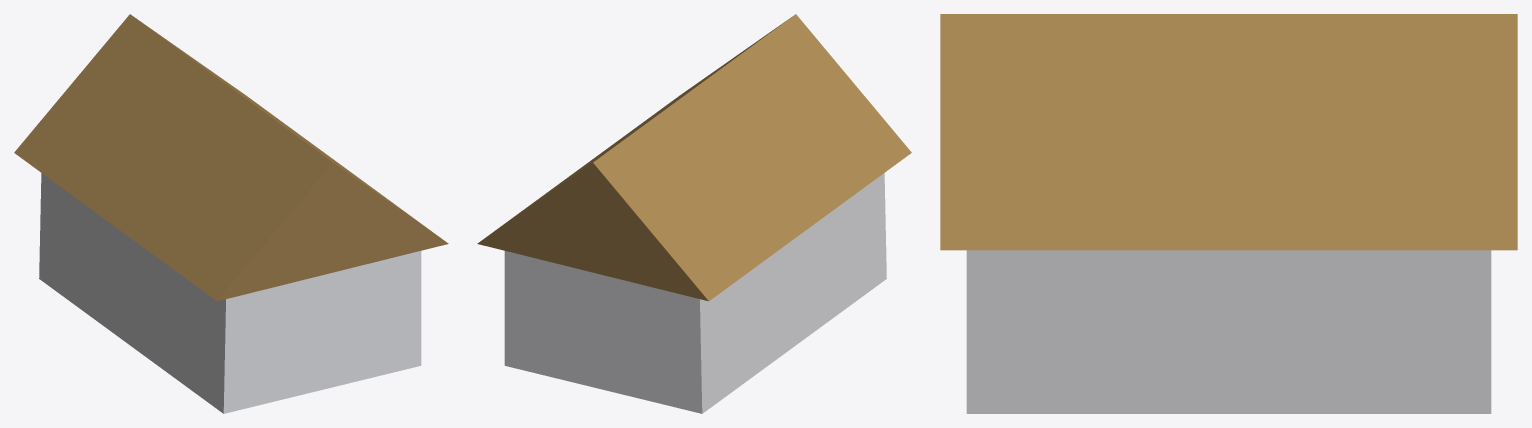
The model's file is house.gltf.
3 renders of one model, left to right at view 1: azimuth 30°, elevation 25°; view 2: azimuth 150°, elevation 25°; view 3: azimuth 270°, elevation 25°, orthographic. The views are drawn at different scales.
Parts seen in each view (by area): view 1: ID11, SketchUp; view 2: ID11, SketchUp; view 3: ID11, SketchUp.
Boxes of the visible parts, box(x1,y1,x2,y2) form: ID11: box(14, 14, 448, 301); SketchUp: box(39, 173, 421, 413); ID11: box(477, 14, 911, 301); SketchUp: box(504, 173, 886, 413); ID11: box(940, 14, 1517, 250); SketchUp: box(966, 250, 1491, 413).
Bounding box in the file's own units: 0.6226 × 0.5995 × 0.9438.
